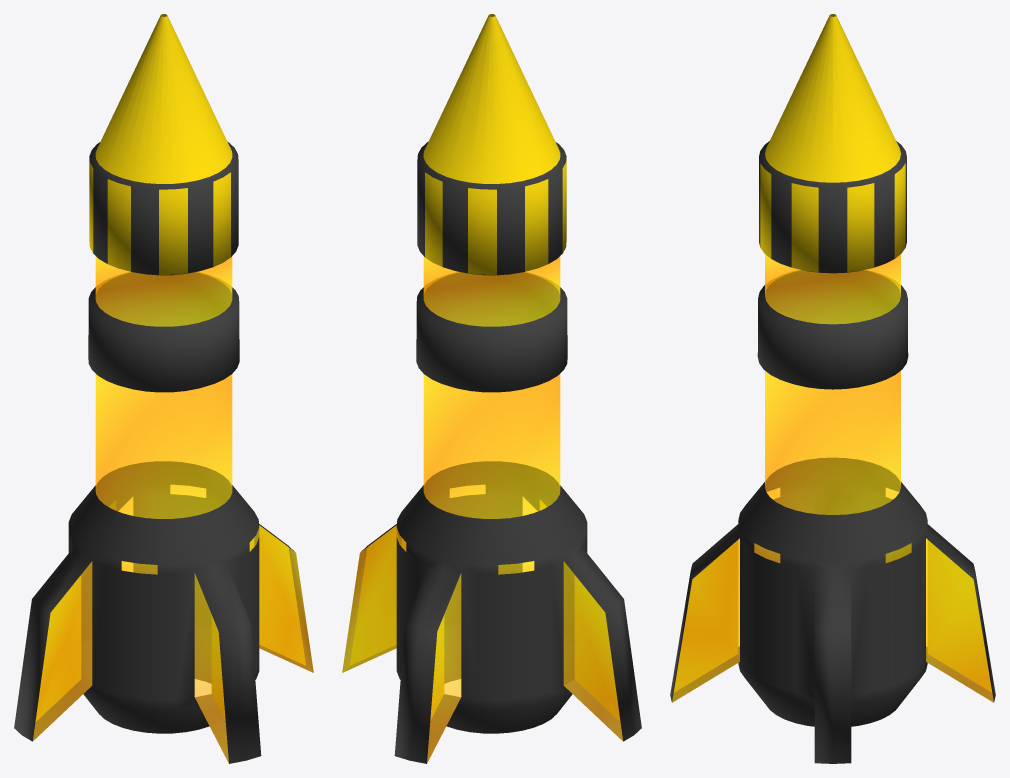
File: Missile Expansion.glb
3 renders of one model, left to right at view 1: azimuth 30°, elevation 25°; view 2: azimuth 150°, elevation 25°; view 3: azimuth 270°, elevation 25°, orthographic.
Parts seen in each view (by area): view 1: Cylinder; view 2: Cylinder; view 3: Cylinder.
Boxes of the visible parts, x1,y1,x2,y2 form: Cylinder: (14, 14, 313, 763); Cylinder: (342, 14, 641, 763); Cylinder: (670, 14, 995, 763).
Size of the model in its own units: 2.39 by 5.54 by 2.39.
